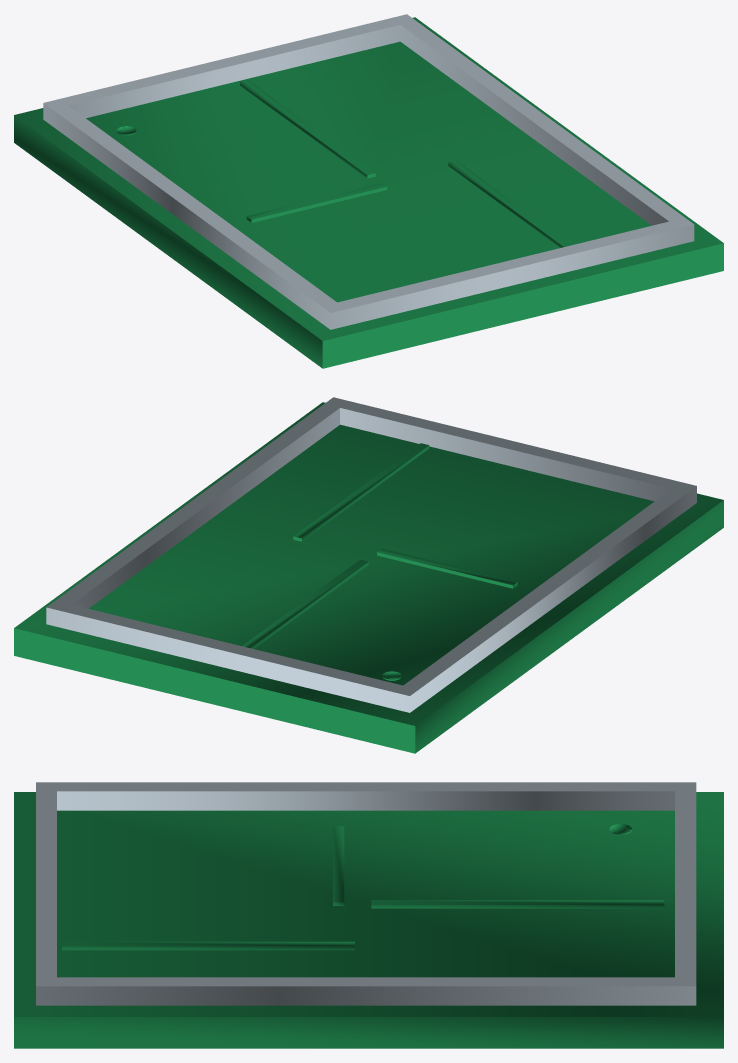
The model's file is board2.fbx.
3 renders of one model, top to bottom at view 1: azimuth 30°, elevation 25°; view 2: azimuth 150°, elevation 25°; view 3: azimuth 270°, elevation 25°, orthographic. The views are drawn at different scales.
Parts seen in each view (by area): view 1: Box002, Rectangle0; view 2: Box002, Rectangle0; view 3: Box002, Rectangle0.
Boxes of the visible parts, <box> form: Box002: <box>14,17,723,368</box>; Rectangle0: <box>43,14,694,329</box>; Box002: <box>14,402,723,753</box>; Rectangle0: <box>46,397,696,712</box>; Box002: <box>14,792,723,1048</box>; Rectangle0: <box>36,782,696,1005</box>.
Bounding box in the file's own units: 135 × 14.3 × 180.
